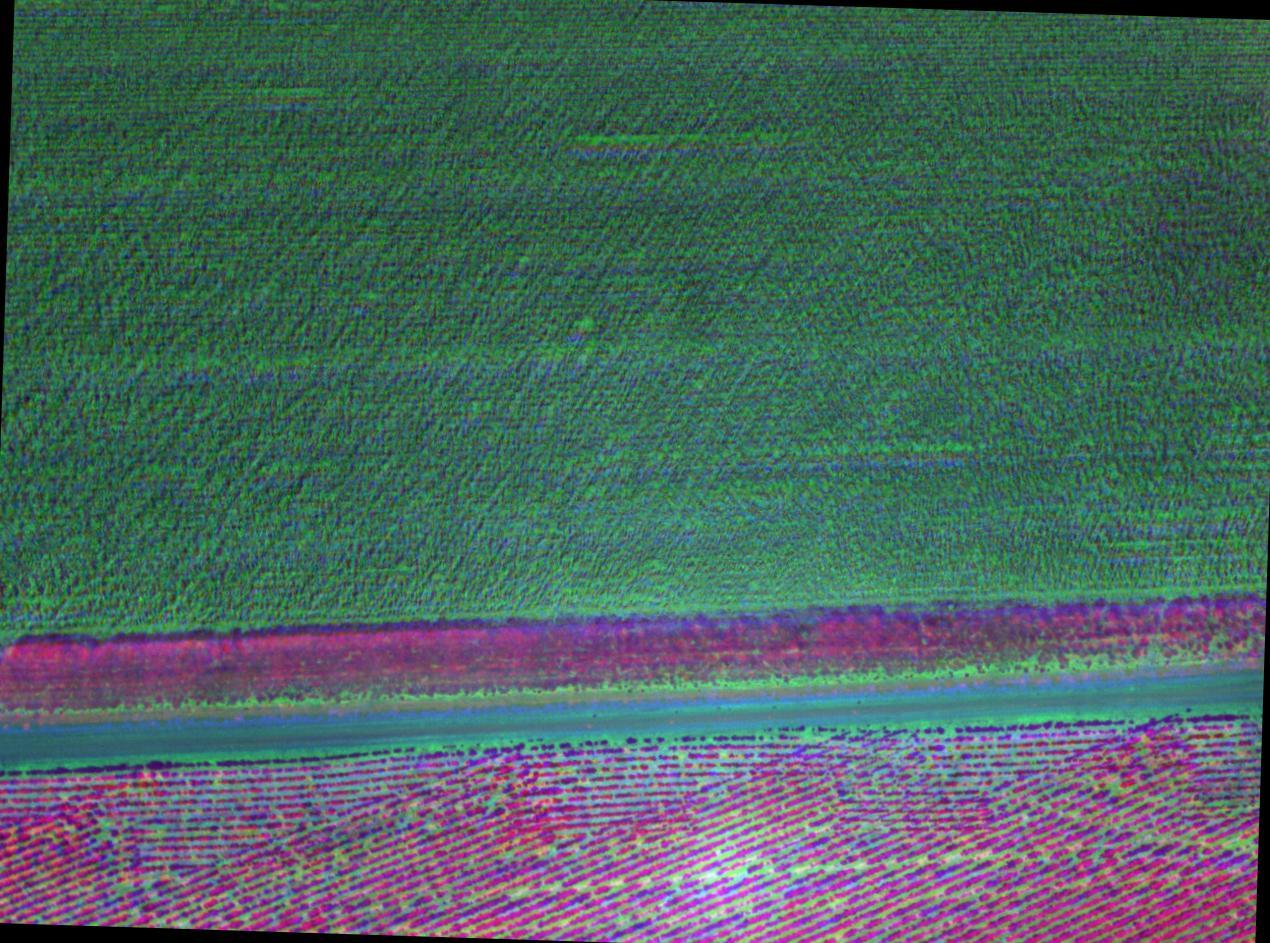dc: (739, 869, 746, 876), (119, 887, 125, 893), (407, 813, 414, 818), (951, 856, 956, 863), (1110, 784, 1116, 789), (1226, 841, 1231, 846), (515, 889, 520, 894), (102, 833, 106, 838), (299, 872, 302, 876)
